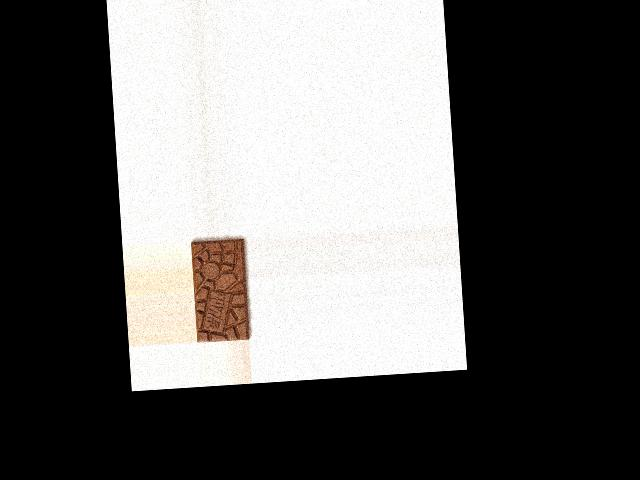chocolate: (191, 237, 252, 343)
